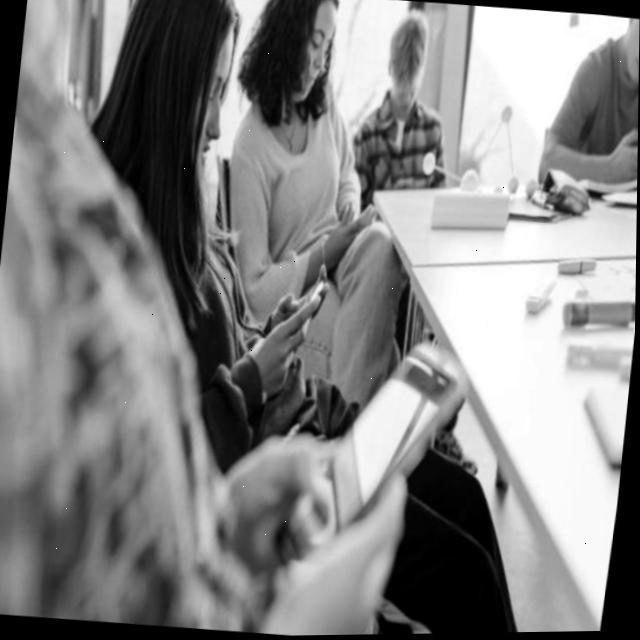phone: (273, 326, 474, 588)
